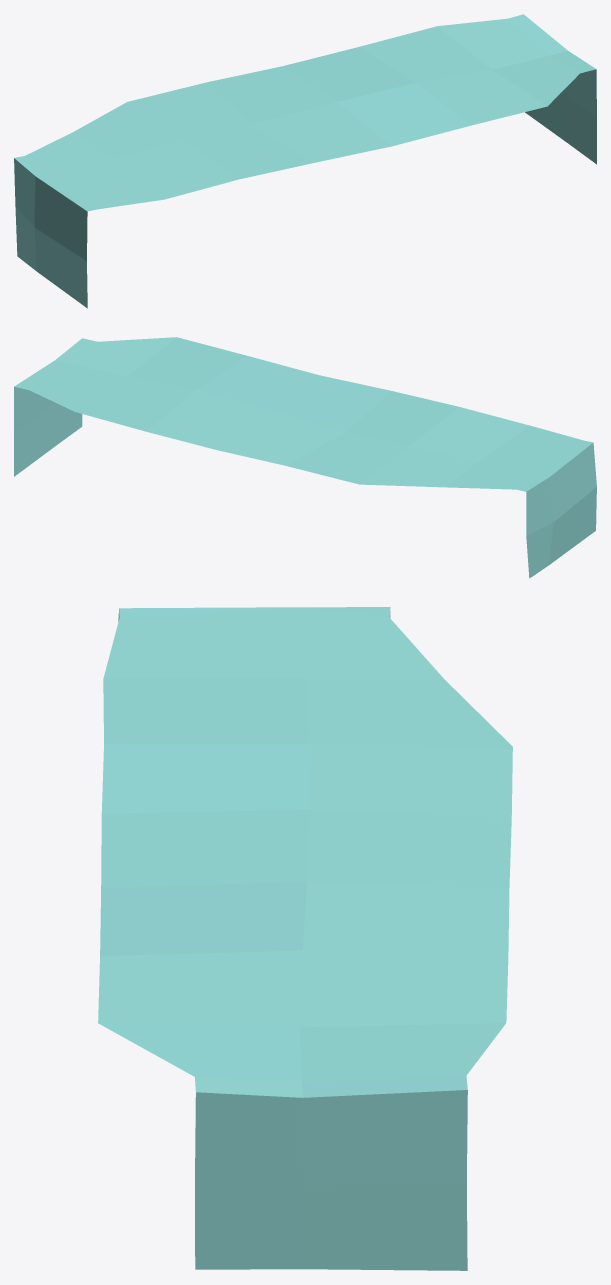
File: voda.fbx
3 renders of one model, top to bottom at view 1: azimuth 30°, elevation 25°; view 2: azimuth 150°, elevation 25°; view 3: azimuth 270°, elevation 25°, orthographic. The views are drawn at different scales.
Parts seen in each view (by area): view 1: Plane; view 2: Plane; view 3: Plane.
Part boxes in pixels (<box>): Plane: <box>14,14,596,308</box>; Plane: <box>14,337,596,578</box>; Plane: <box>98,607,512,1270</box>.
Bounding box in the file's own units: 6803 × 1194 × 2457.
